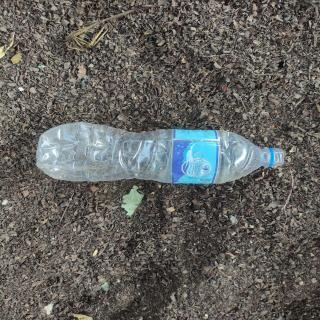Plastic-bottle: (34, 120, 289, 189)
